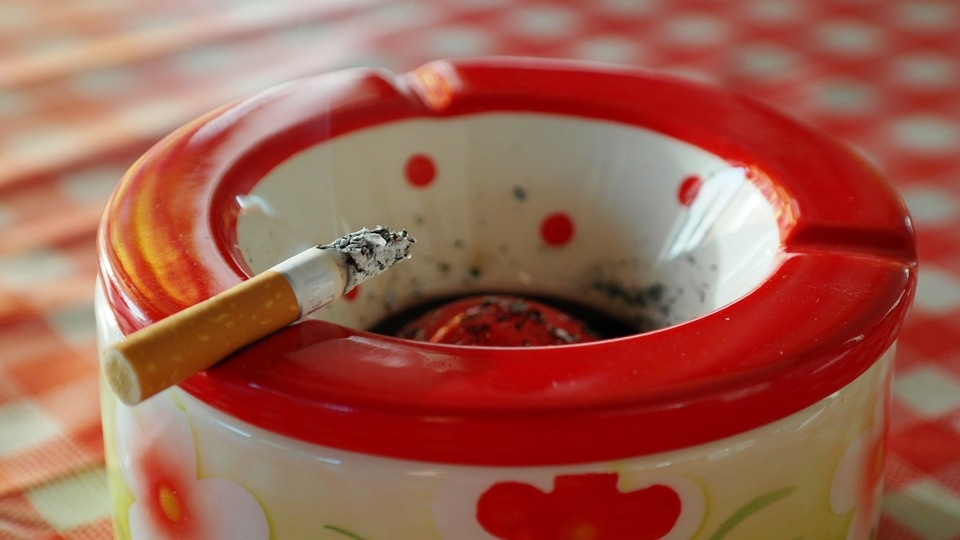sigaretta: (106, 233, 399, 390)
